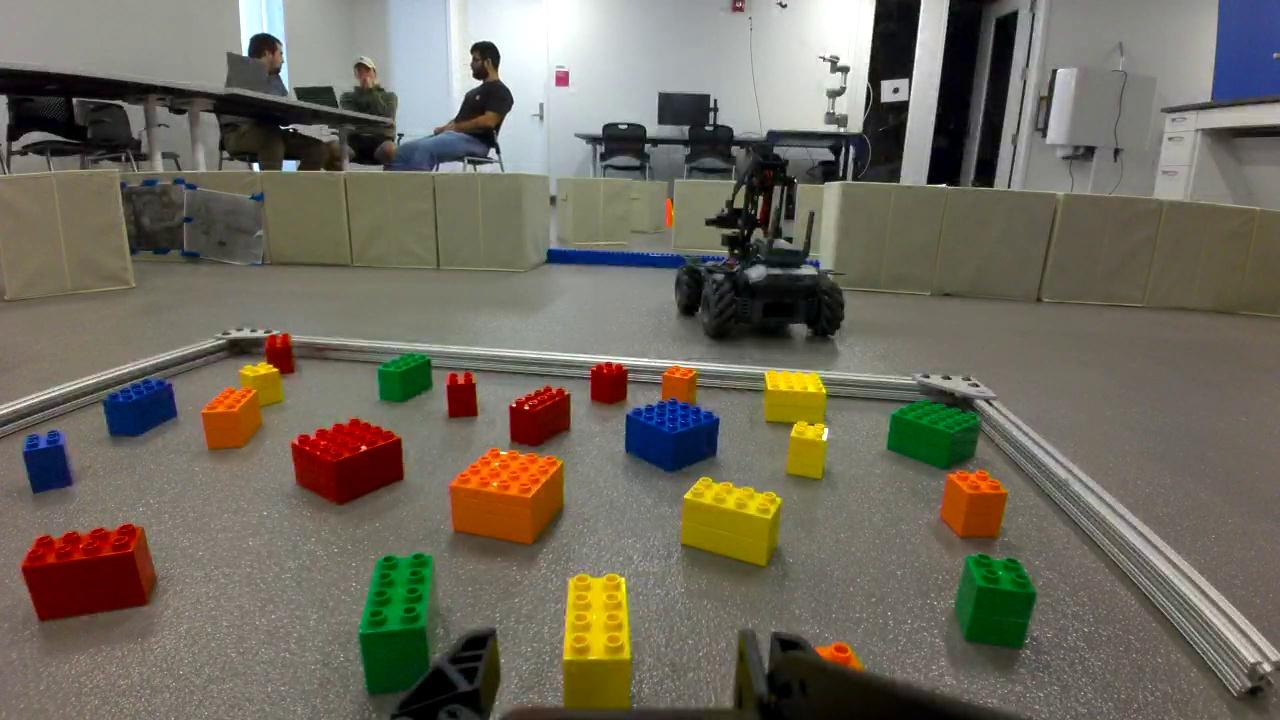2x2lego: (950, 546, 1037, 652), (931, 467, 1011, 541), (20, 427, 75, 495), (786, 419, 831, 480), (236, 359, 285, 405), (586, 360, 629, 407), (444, 370, 479, 419), (261, 330, 294, 370), (663, 366, 698, 402)
2x4lego: (21, 520, 161, 623), (357, 549, 440, 701), (559, 573, 636, 705), (681, 476, 782, 566), (103, 374, 178, 440), (201, 384, 261, 454), (507, 383, 572, 446)
4x4lego: (446, 444, 567, 547), (289, 416, 407, 508), (886, 396, 983, 474), (623, 396, 721, 473), (760, 369, 828, 425), (376, 349, 436, 408)
